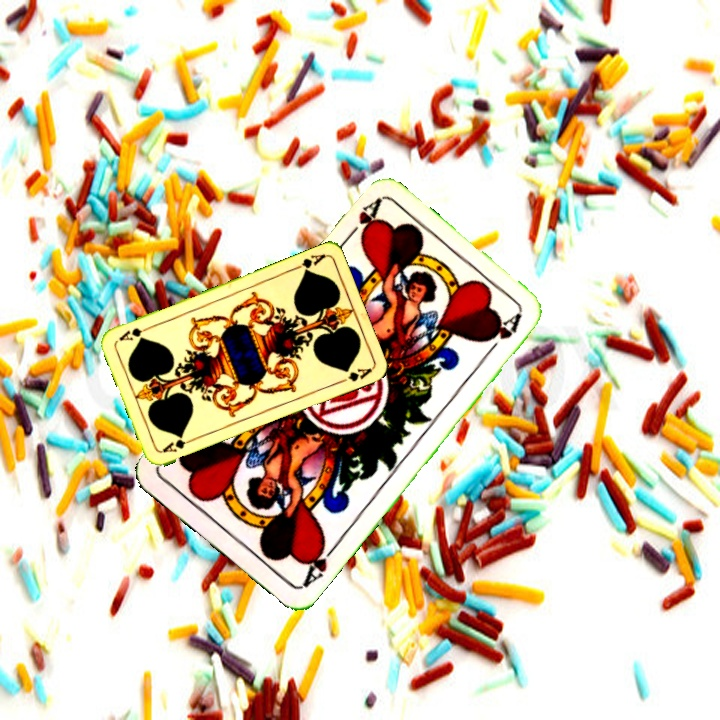GA: (288, 250, 327, 276), (158, 433, 197, 456)
HA: (339, 195, 384, 246), (299, 536, 341, 590)
